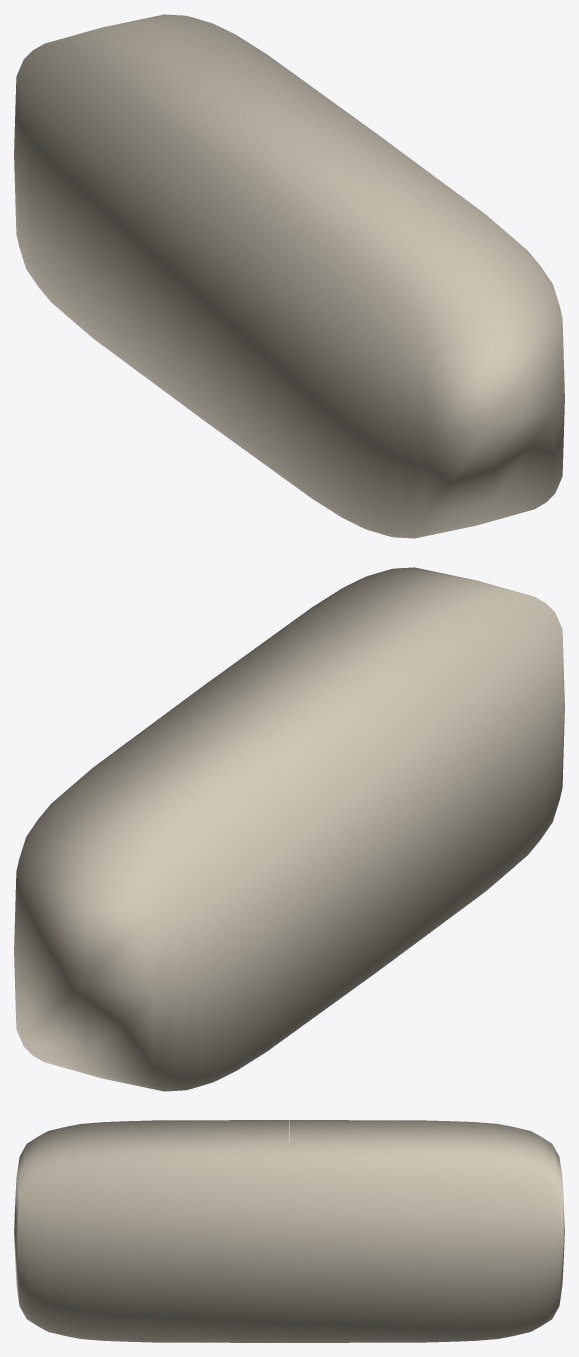
Rendered from vidaxl-outdoor-368280-g2-proxy.glb.
3 renders of one model, top to bottom at view 1: azimuth 30°, elevation 25°; view 2: azimuth 150°, elevation 25°; view 3: azimuth 270°, elevation 25°, orthographic. The views are drawn at different scales.
Visible parts, largest first — view 1: proxy_body; view 2: proxy_body; view 3: proxy_body.
Part boxes in pixels (x1,y1,x2,y2): proxy_body: [14, 14, 564, 538]; proxy_body: [14, 567, 564, 1091]; proxy_body: [14, 1120, 564, 1342].
Bounding box in the file's own units: 0.6 × 0.73 × 2.05.
